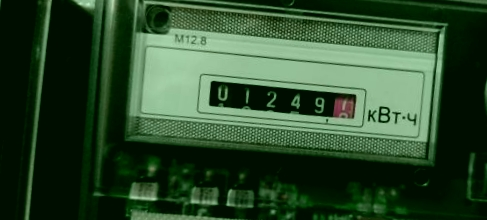0: (215, 81, 231, 102)
1: (240, 84, 252, 104)
2: (264, 87, 279, 109)
4: (289, 90, 302, 110)
7: (337, 92, 351, 112)
9: (311, 93, 327, 116)
screen: (188, 64, 367, 133)
